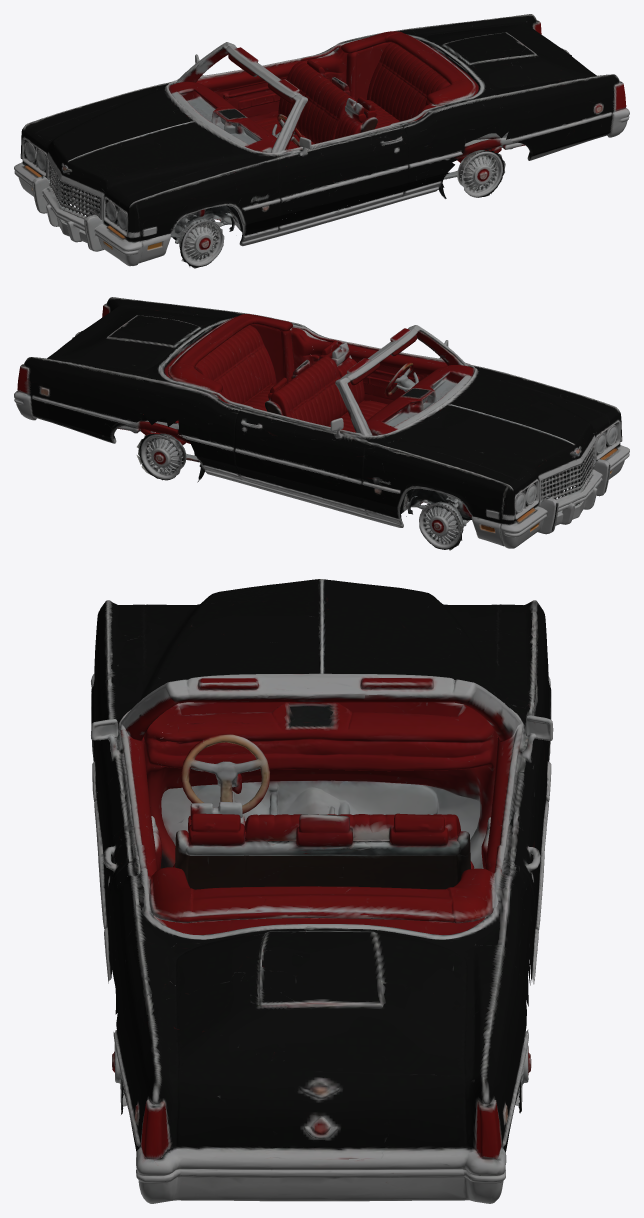
File: gangster-convertible-rigged.glb
The picture shows the model from 3 angles, top to bottom: view 1: azimuth 30°, elevation 25°; view 2: azimuth 150°, elevation 25°; view 3: azimuth 270°, elevation 25°; orthographic projection. The views are drawn at different scales.
Parts seen in each view (by area): view 1: body geometry, driver-door geometry, wheel_FL geometry, wheel_RL geometry; view 2: body geometry, driver-door geometry, wheel_RR geometry, wheel_FR geometry; view 3: body geometry, driver-door geometry.
Boxes of the visible parts, <box> form: body geometry: <box>14,14,629,266</box>; driver-door geometry: <box>281,115,429,223</box>; wheel_FL geometry: <box>179,214,224,268</box>; wheel_RL geometry: <box>457,150,505,197</box>; body geometry: <box>14,297,629,548</box>; driver-door geometry: <box>309,332,453,404</box>; wheel_RR geometry: <box>136,433,186,480</box>; wheel_FR geometry: <box>419,495,463,550</box>; body geometry: <box>91,579,553,1203</box>; driver-door geometry: <box>91,709,168,947</box>.
Size of the model in its own units: 1.9 by 0.46 by 0.7208.
1 material, 1 textured.
